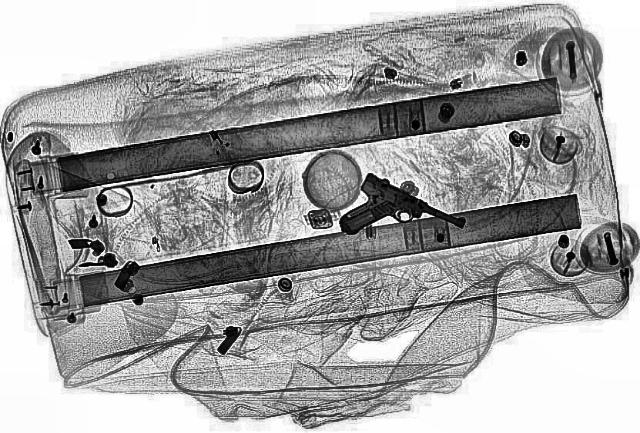Gun: (316, 172, 478, 264)
